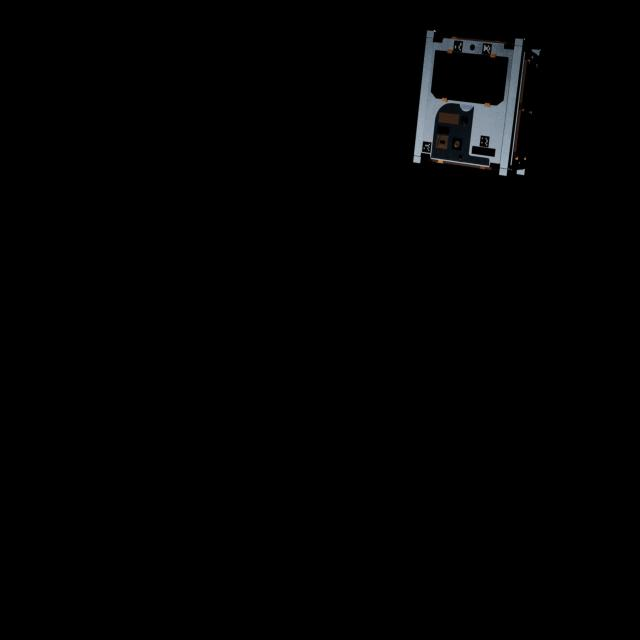medium_debris: (412, 22, 549, 189)
